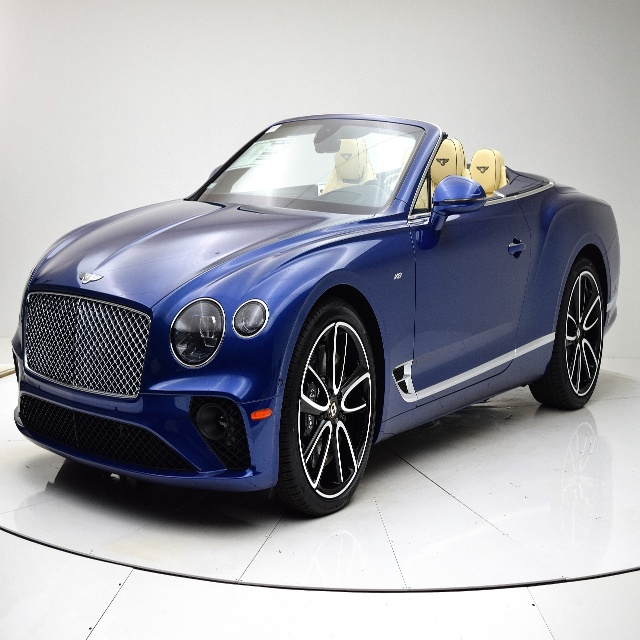Car: (11, 115, 619, 521)
